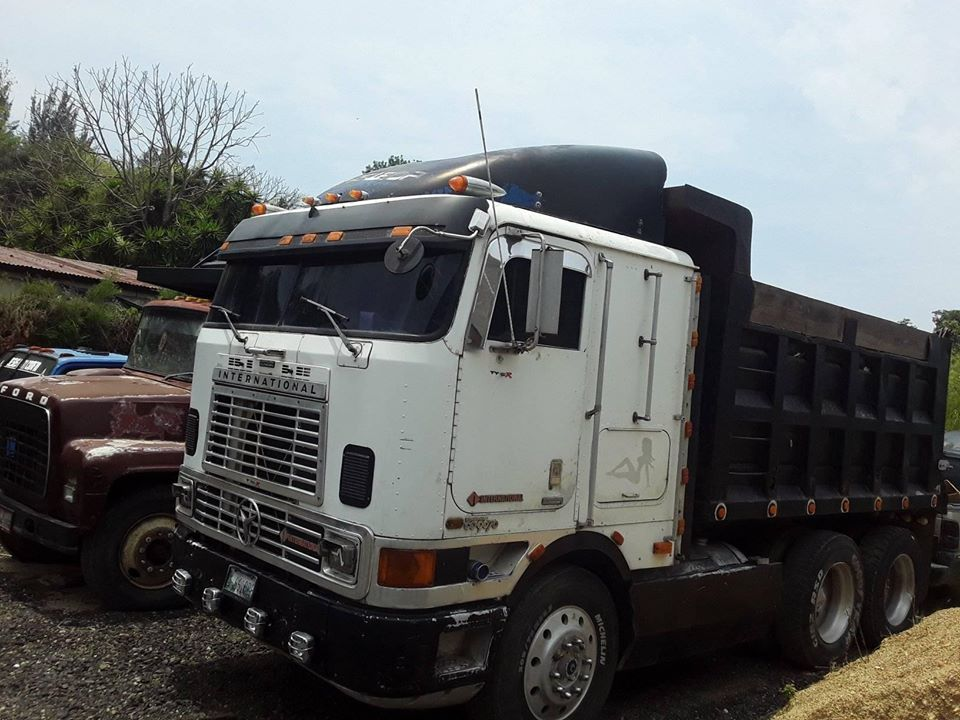camion: (183, 126, 950, 713), (16, 285, 171, 600)
